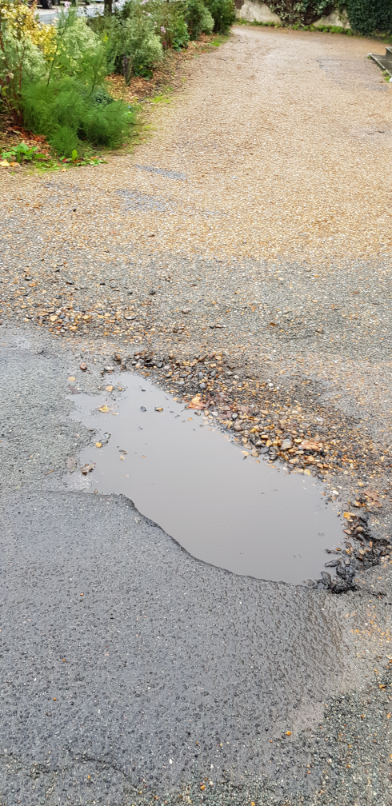pothole: (51, 354, 385, 600)
